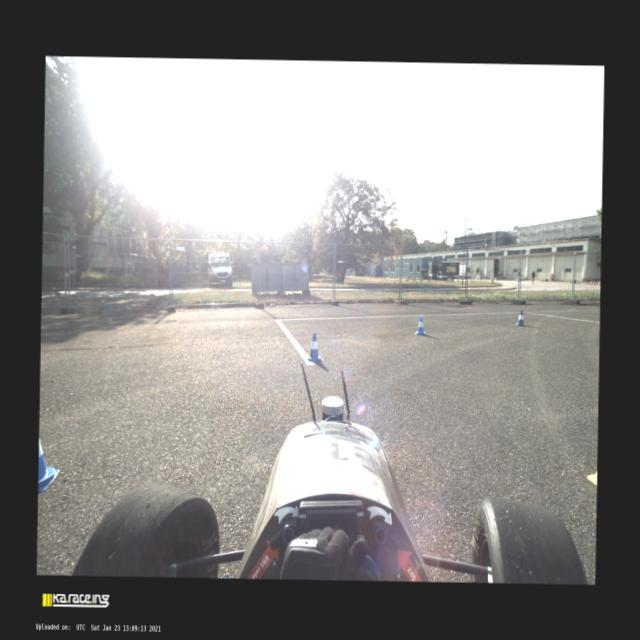blue_cone: (38, 432, 61, 492), (305, 332, 322, 362), (414, 316, 427, 336), (514, 310, 527, 326)
